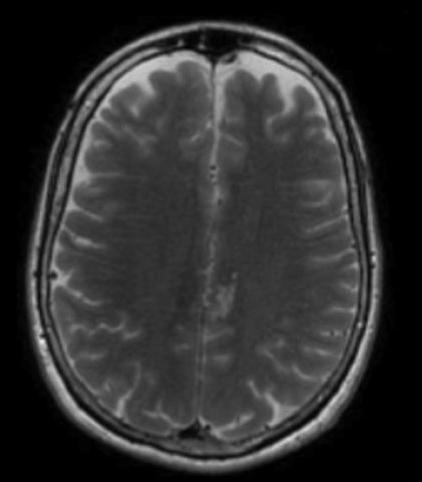Normal_Brain: (1, 1, 397, 482)
